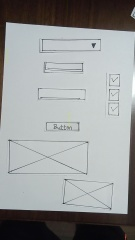button: (46, 122, 79, 131)
checkbox: (108, 102, 118, 115), (109, 91, 120, 101), (110, 73, 119, 84)
dropdown: (41, 38, 101, 52)
img: (8, 142, 88, 173), (64, 180, 112, 208)
text: (38, 89, 85, 100), (44, 63, 84, 72)
